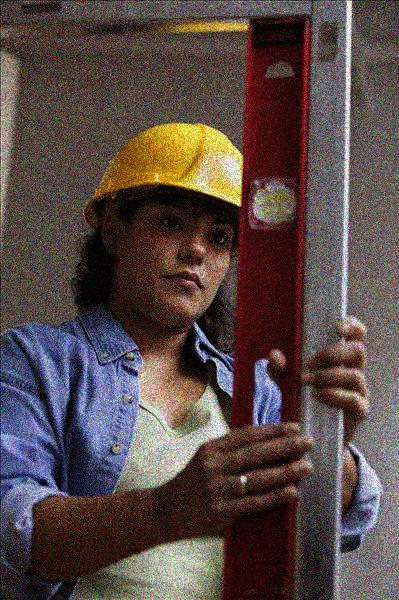helmet: (84, 120, 257, 328)
